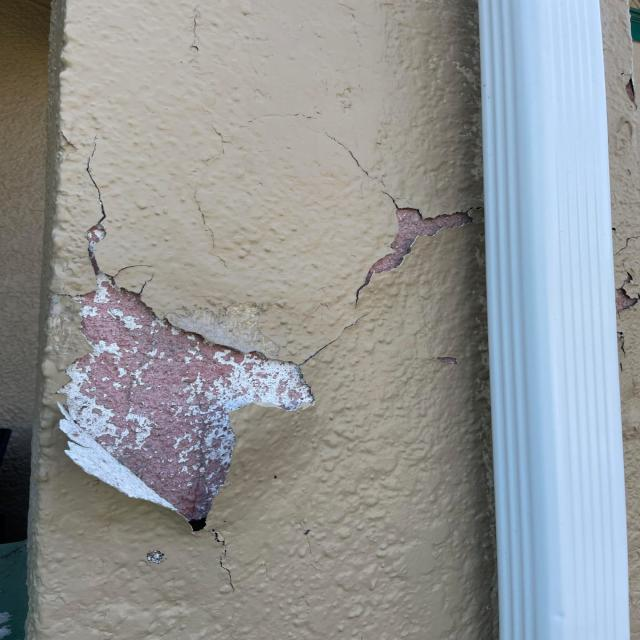peeling: (53, 241, 326, 536), (355, 203, 470, 301)
